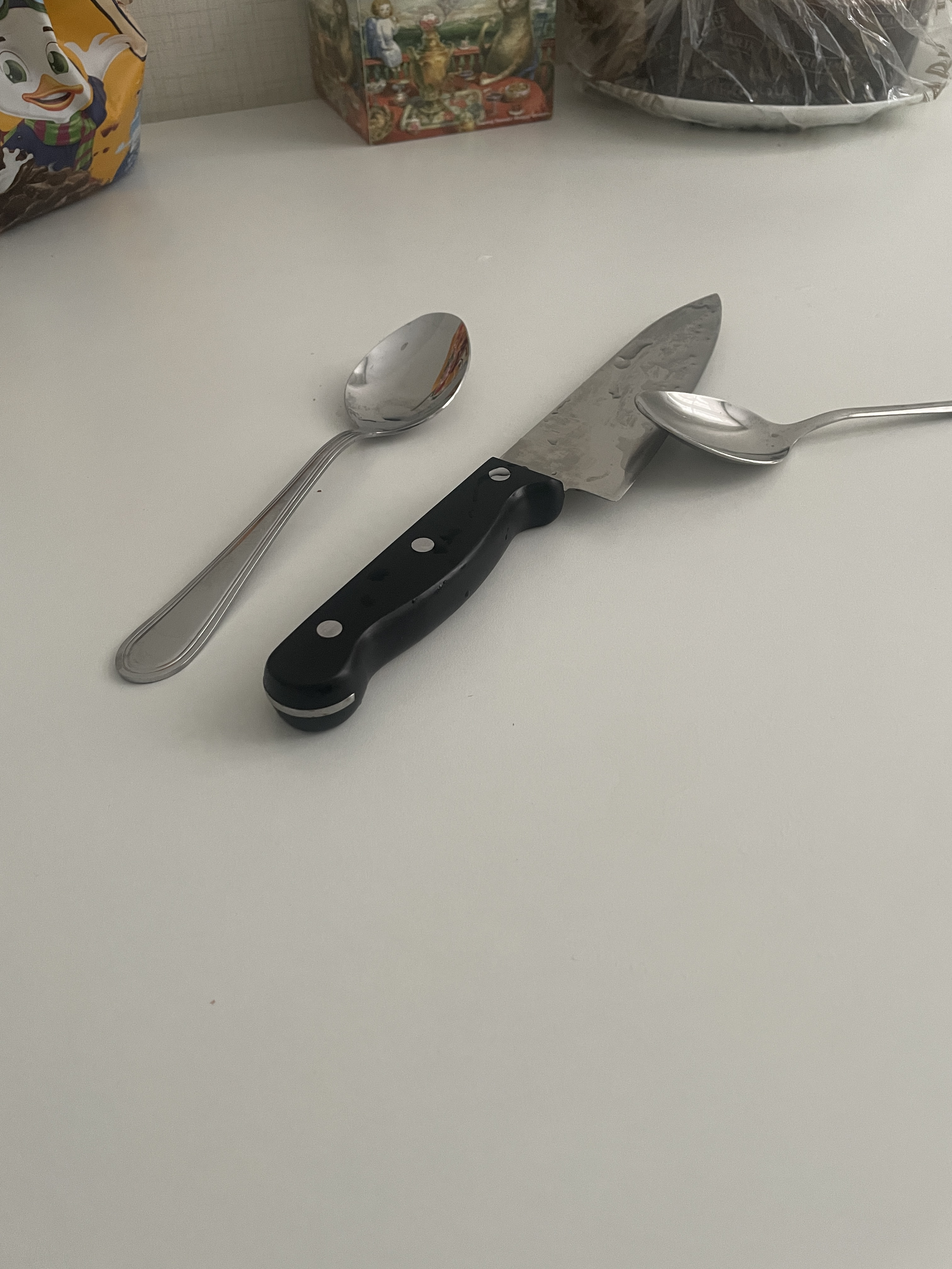knife: (264, 295, 722, 731)
spoon: (116, 313, 470, 683), (635, 391, 952, 465)
